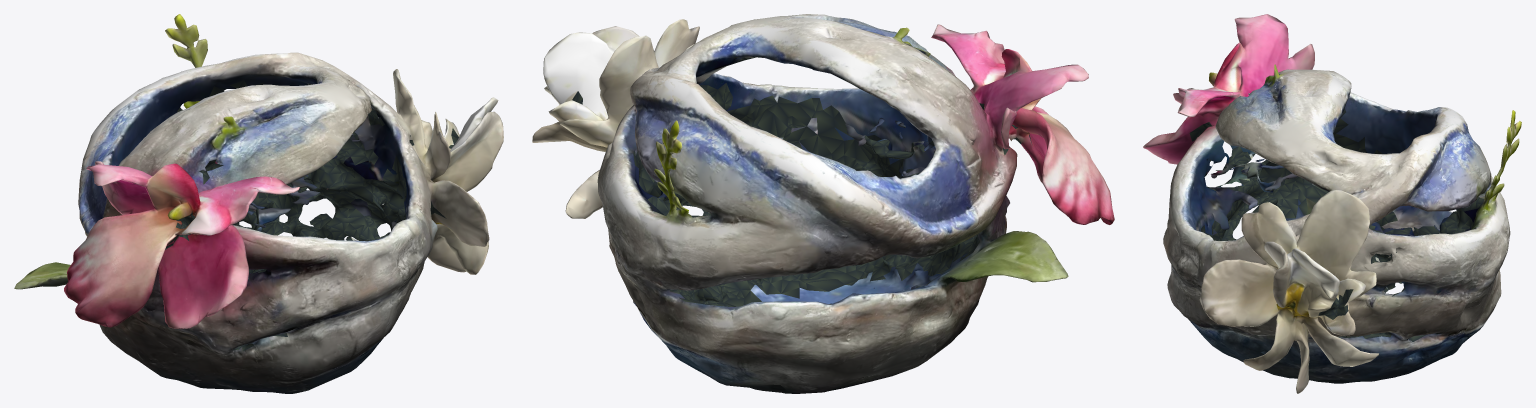
3 renders of one model, left to right at view 1: azimuth 30°, elevation 25°; view 2: azimuth 150°, elevation 25°; view 3: azimuth 270°, elevation 25°, orthographic. The views are drawn at different scales.
Visible parts, largest first — view 1: Mesh_0.008; view 2: Mesh_0.008; view 3: Mesh_0.008.
Part boxes in pixels (x1,y1,x2,y2): Mesh_0.008: (14, 14, 503, 393); Mesh_0.008: (532, 14, 1114, 393); Mesh_0.008: (1143, 14, 1521, 393).
Bounding box in the file's own units: 2.01 × 1.13 × 1.48.
Materials: 9 (8 with a texture image).
